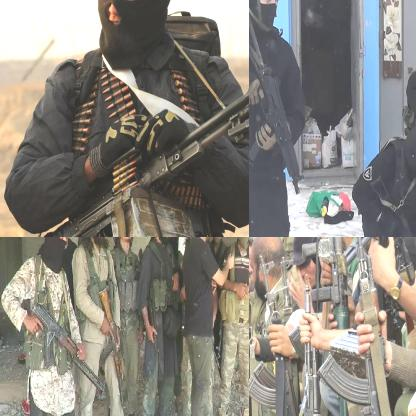rifle: (0, 28, 248, 236), (320, 237, 398, 415), (249, 13, 306, 200), (24, 302, 107, 400), (249, 247, 297, 415), (263, 283, 322, 415), (369, 280, 415, 415), (298, 237, 352, 332), (99, 288, 131, 413), (249, 259, 259, 415)
